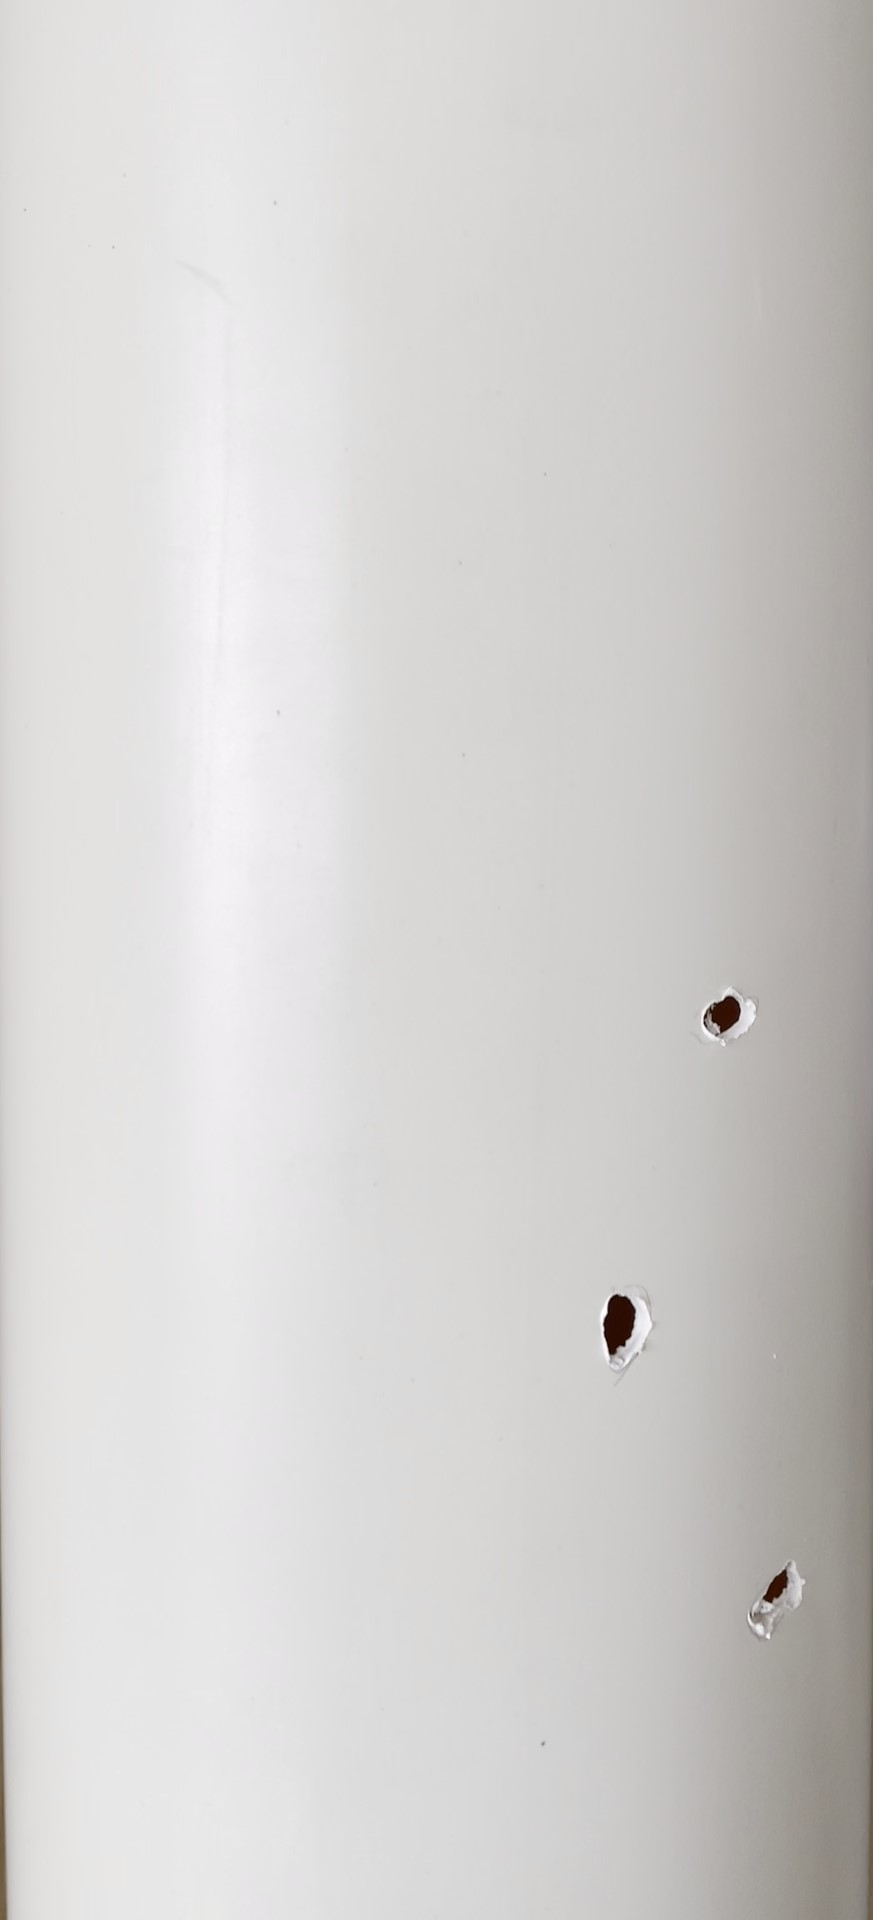kongdong: (584, 1281, 665, 1374), (684, 970, 770, 1051), (740, 1562, 818, 1631)
